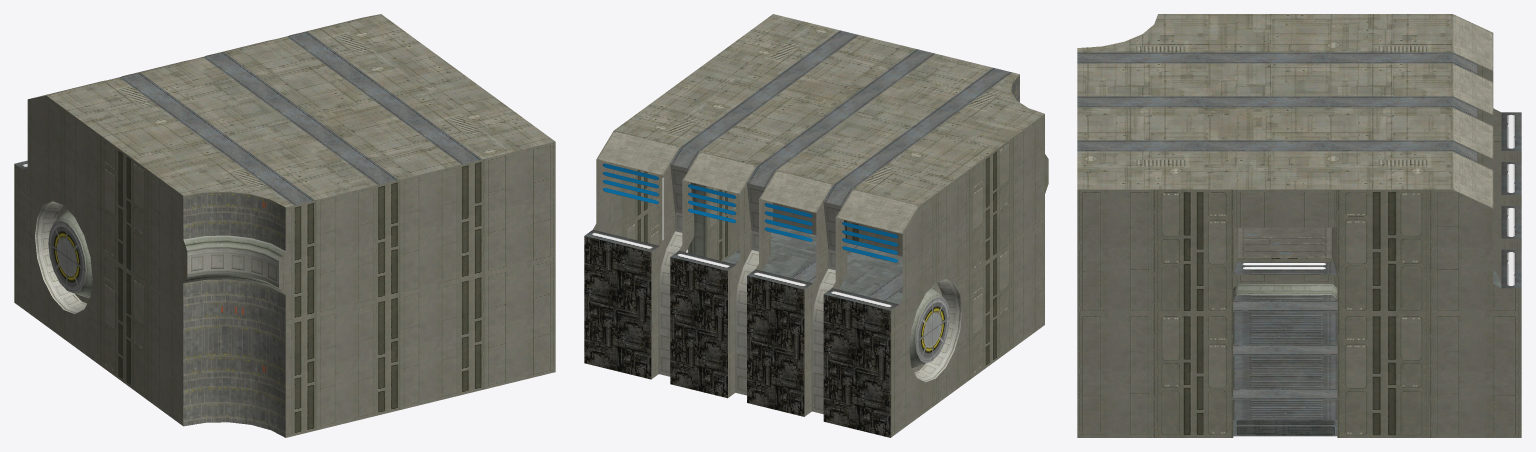
The model's file is thm_tato_fallen_star_r10_meeting03_mesh_r10.fbx.
The picture shows the model from 3 angles, left to right: view 1: azimuth 30°, elevation 25°; view 2: azimuth 150°, elevation 25°; view 3: azimuth 270°, elevation 25°; orthographic projection. The views are drawn at different scales.
Visible parts, largest first — view 1: mesh_node; view 2: mesh_node; view 3: mesh_node.
Boxes of the visible parts, x1=… form: mesh_node: x1=14, y1=14, x2=555, y2=437; mesh_node: x1=584, y1=14, x2=1048, y2=437; mesh_node: x1=1077, y1=14, x2=1521, y2=437.
Bounding box in the file's own units: 8.5 × 5.27 × 8.54.
